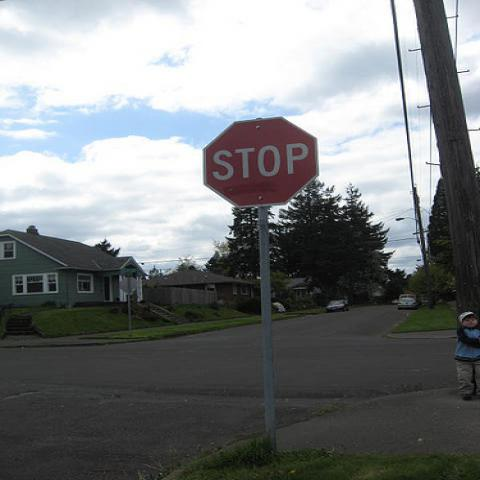car: (397, 294, 420, 310), (327, 300, 350, 313), (391, 299, 400, 304)
